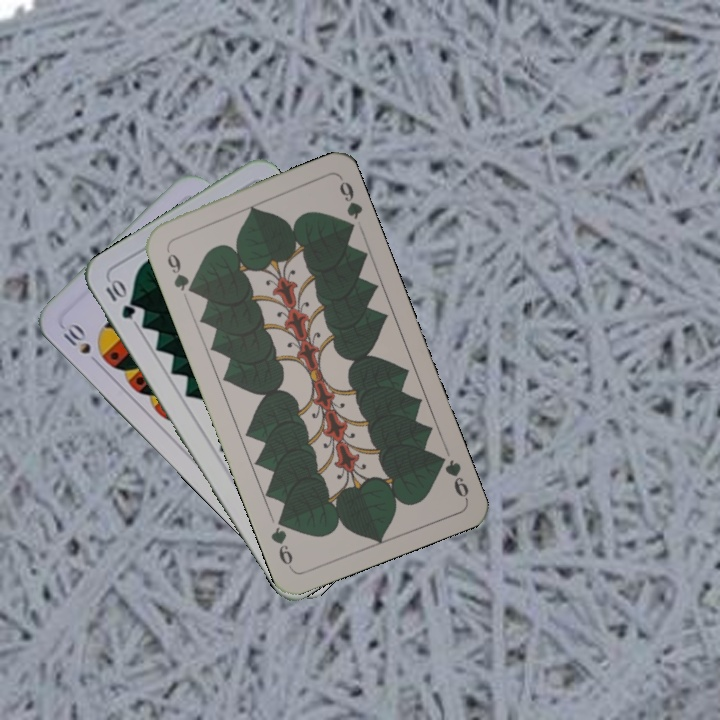G10: (101, 275, 138, 322)
G9: (431, 450, 472, 502), (161, 243, 198, 297)
S10: (57, 319, 104, 369)
